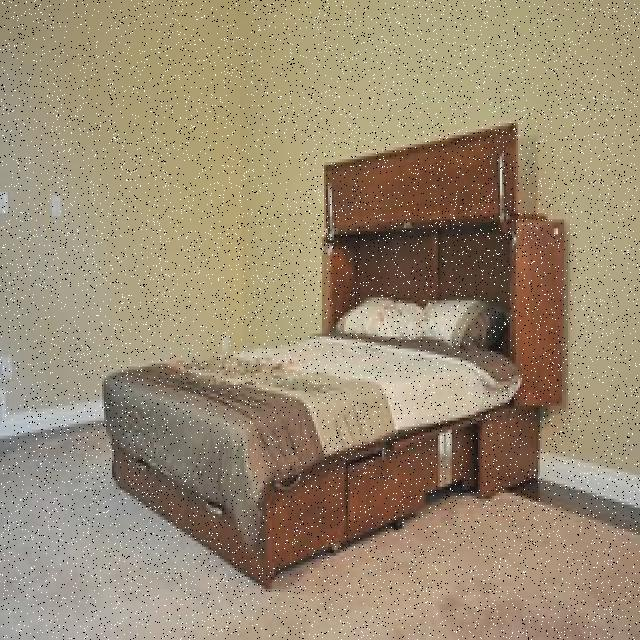bed: (100, 275, 500, 545)
